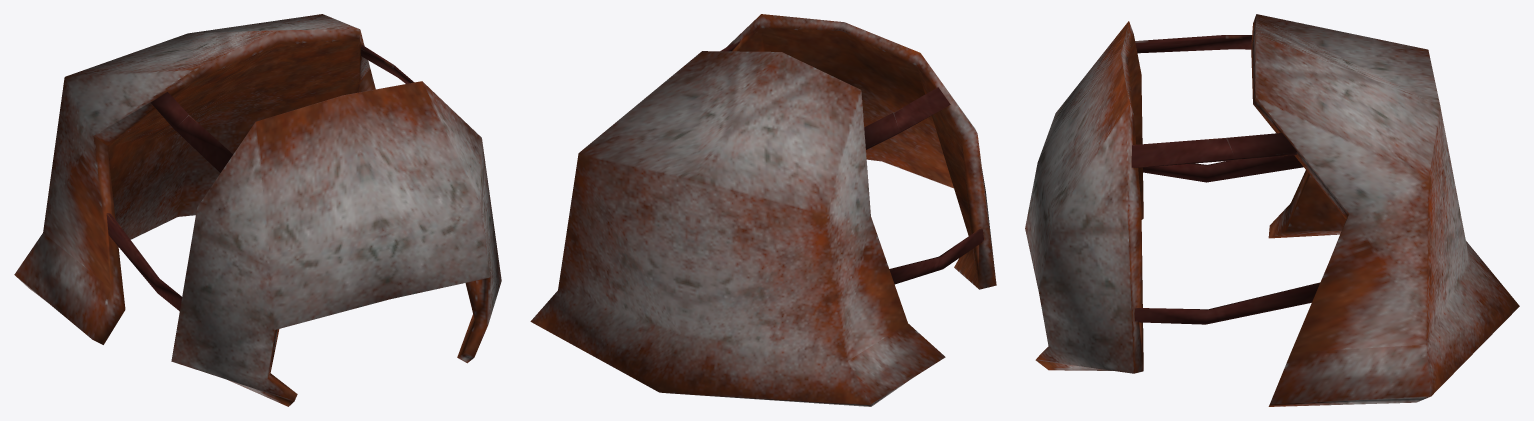
Rendered from medium_helmet.glb.
The picture shows the model from 3 angles, left to right: view 1: azimuth 30°, elevation 25°; view 2: azimuth 150°, elevation 25°; view 3: azimuth 270°, elevation 25°; orthographic projection. The views are drawn at different scales.
Parts seen in each view (by area): view 1: helmet shrek female; view 2: helmet shrek female; view 3: helmet shrek female.
Boxes of the visible parts, bbox=[...] form: helmet shrek female: bbox=[14, 14, 501, 406]; helmet shrek female: bbox=[530, 14, 996, 406]; helmet shrek female: bbox=[1025, 14, 1519, 406].
Bounding box in the file's own units: 0.2812 × 0.2122 × 0.3287.
1 material, 1 textured.
